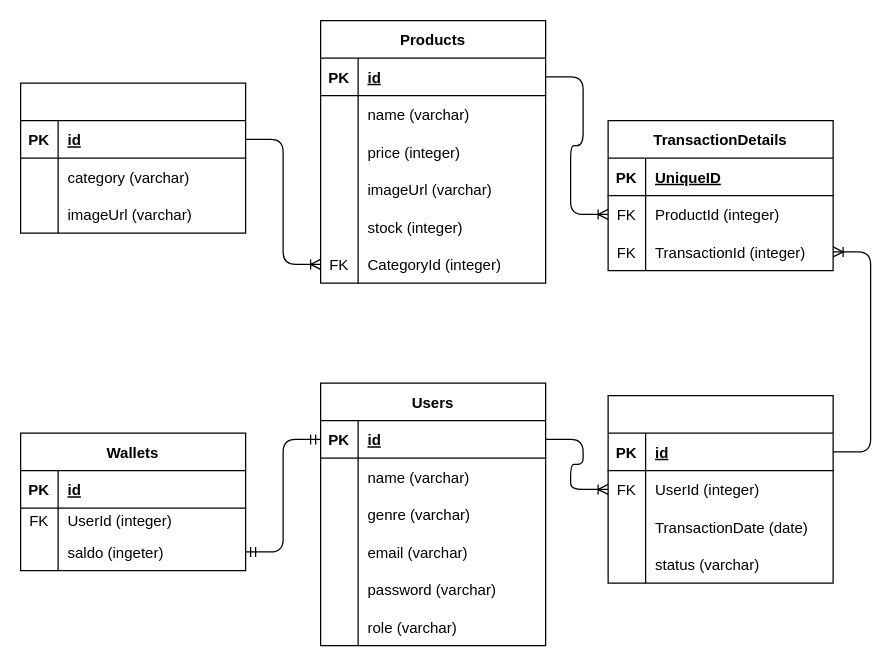
This 891x666 diagram has some shape labels left out. The shapes that lost their labels are listed below. From the top down, each one's box as (x1, y1, x2, y2) in pixels, then its label:
(19, 82, 246, 233): Categories
(607, 394, 833, 583): Transactions
